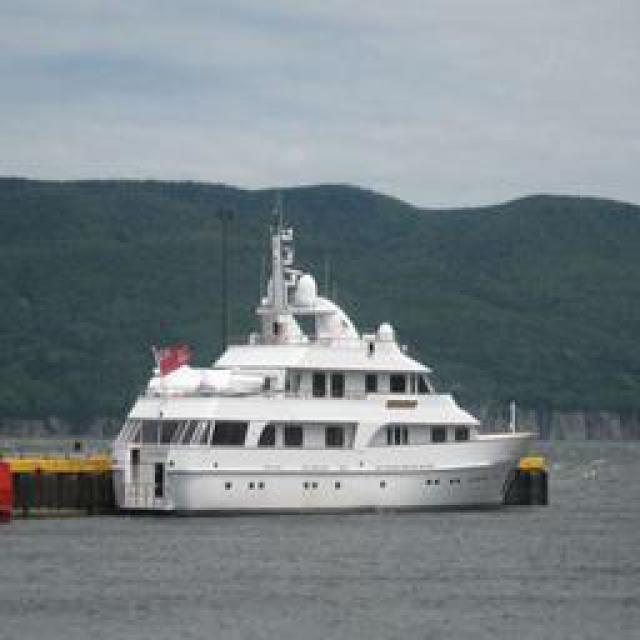Ship: (99, 236, 559, 506)
